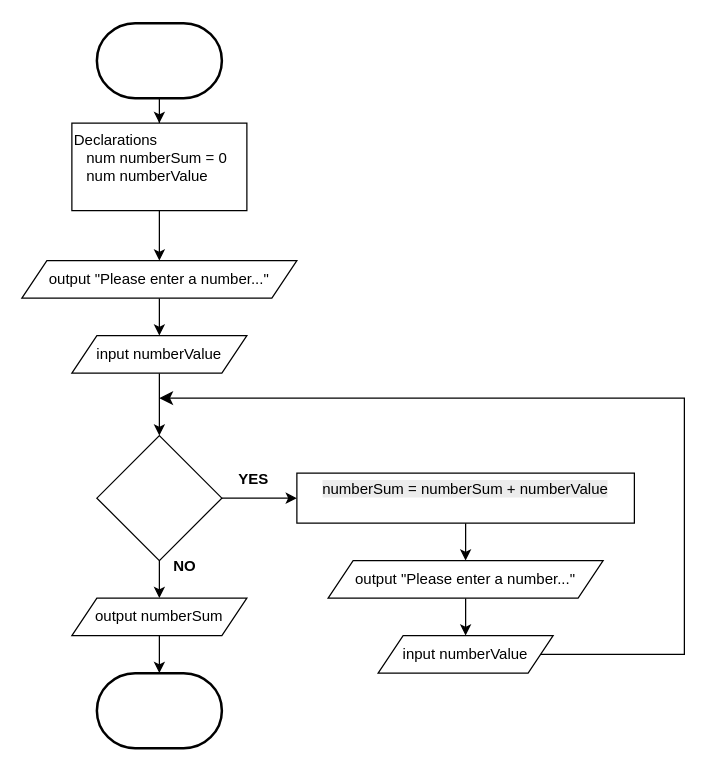
This 719x770 diagram has some shape labels left out. Here are the shapes that lost their labels. From the top down, the box of each, then its label:
(95, 21, 222, 99): start
(96, 434, 222, 561): numberValue <> 0?
(95, 671, 222, 749): stop
